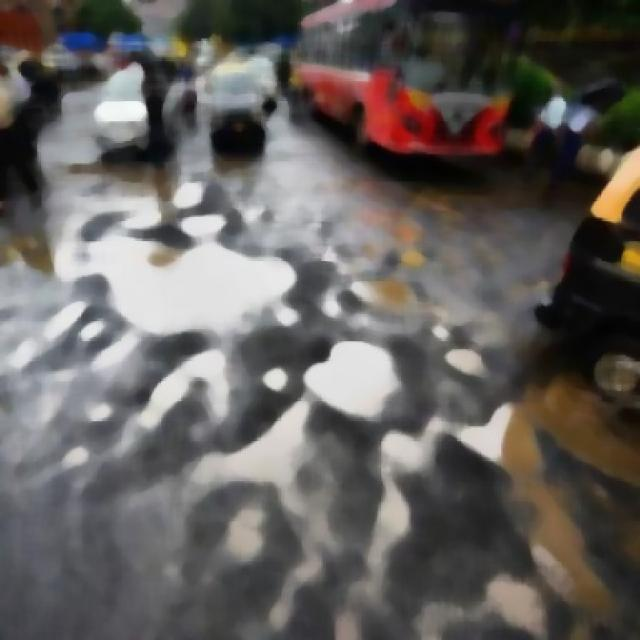pothole: (0, 201, 300, 360), (449, 376, 640, 615), (305, 333, 402, 432), (194, 424, 309, 486)
